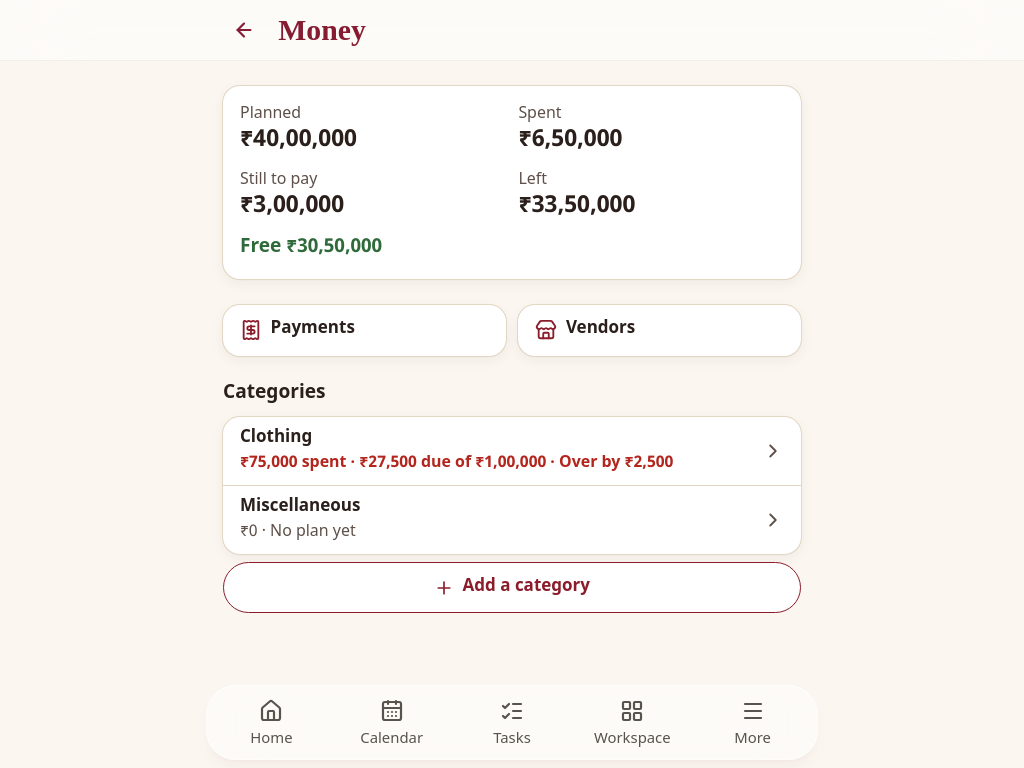
Budget › a category with payments: Delete asks where to move them, then sends move_payments_to
Click the button "Clothing" at coordinates (512, 450), box [223, 416, 801, 484]
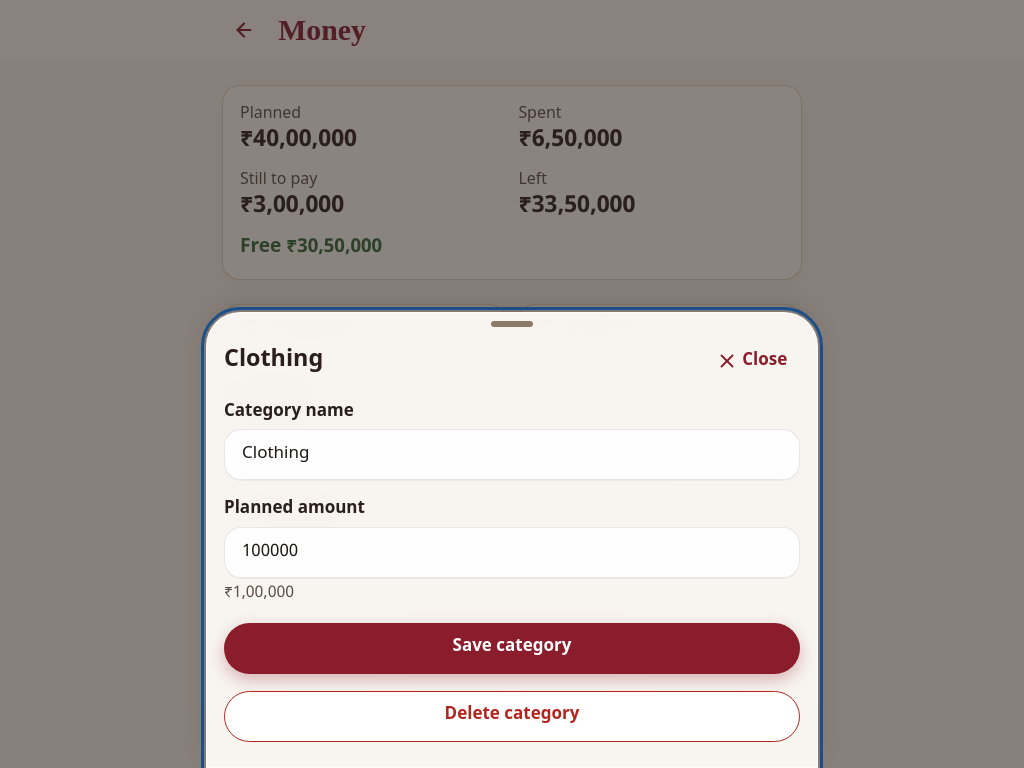
Click the button "Delete category" at coordinates (512, 716), box [224, 690, 800, 742]
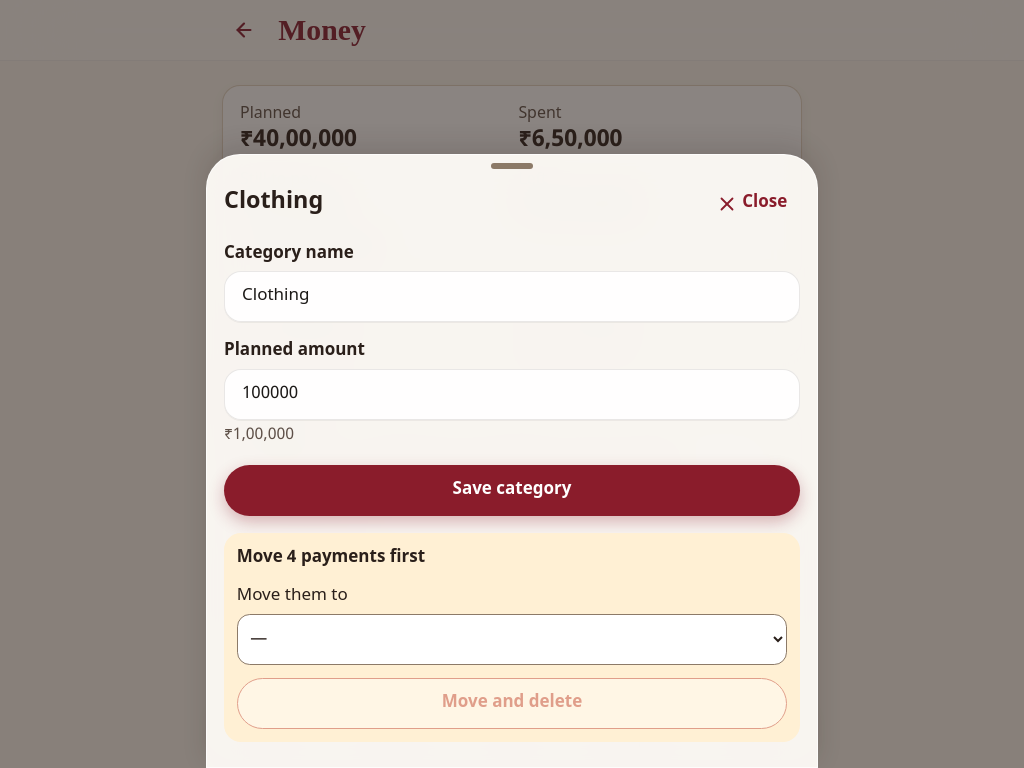
Result: the text "Move 4 payments first" is shown at [237, 547, 425, 569]
Select "Miscellaneous" in the dropdown labelled "Move them to" at coordinates (512, 640), box [237, 614, 787, 665]
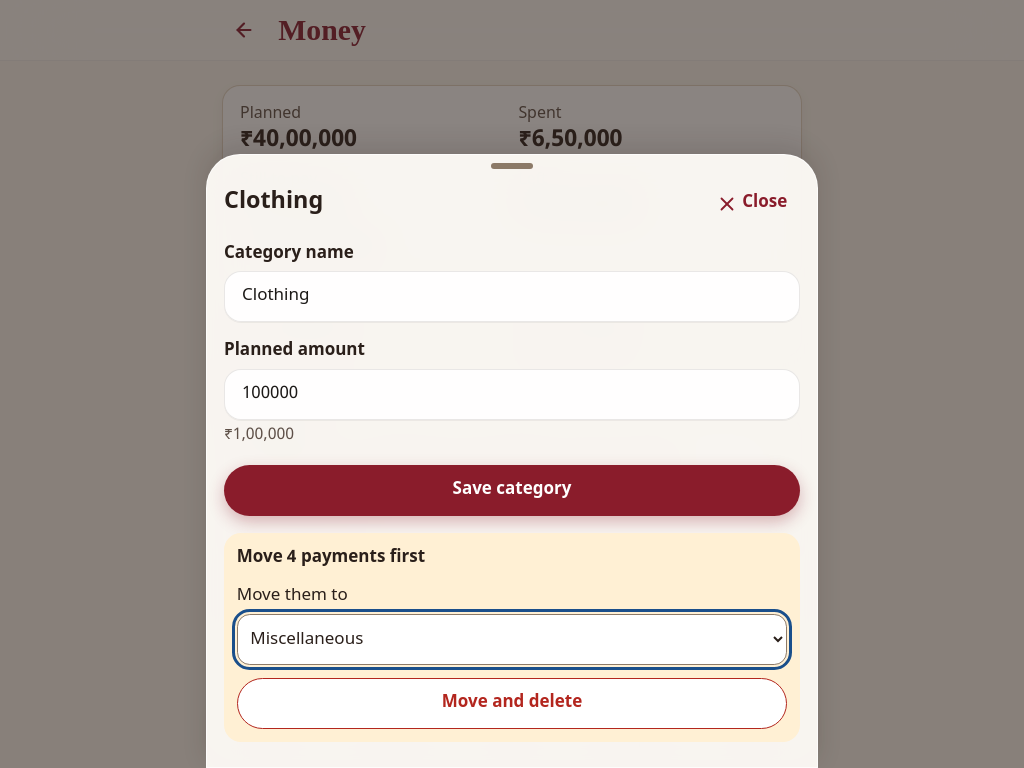
Click the button "Move and delete" at coordinates (512, 703), box [237, 678, 787, 729]
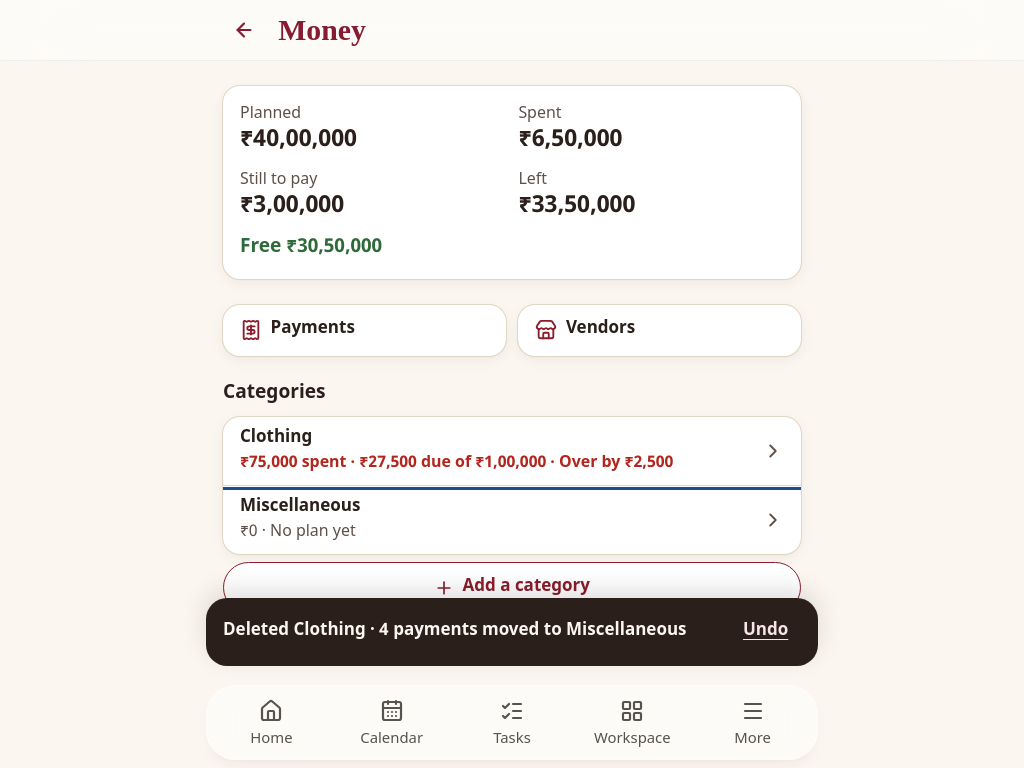
Result: the text "Deleted Clothing · 4 payments moved to Miscellaneous" is shown at [223, 619, 717, 645]
